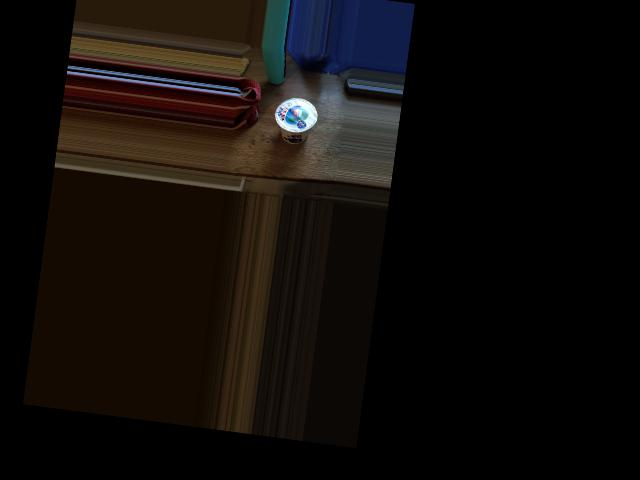cotage: (273, 93, 317, 148)
